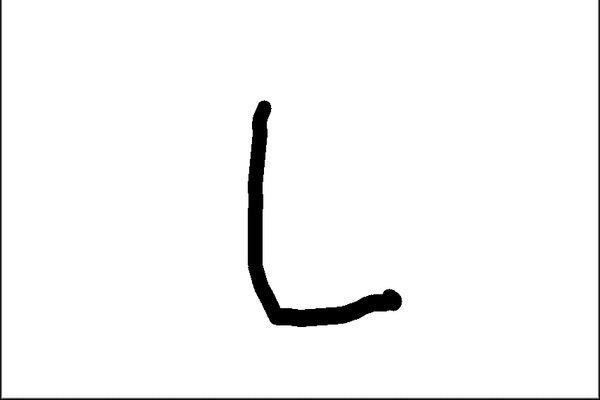L: (239, 92, 409, 328)
